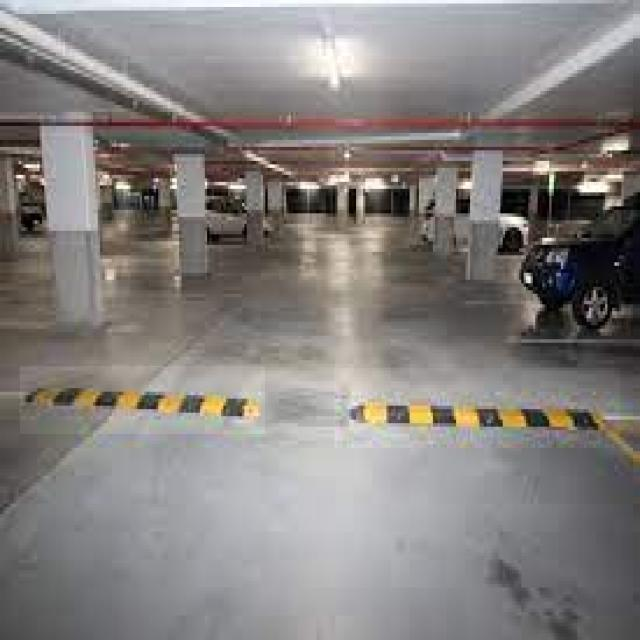Marked Bump: (348, 398, 622, 444), (23, 376, 262, 426)
